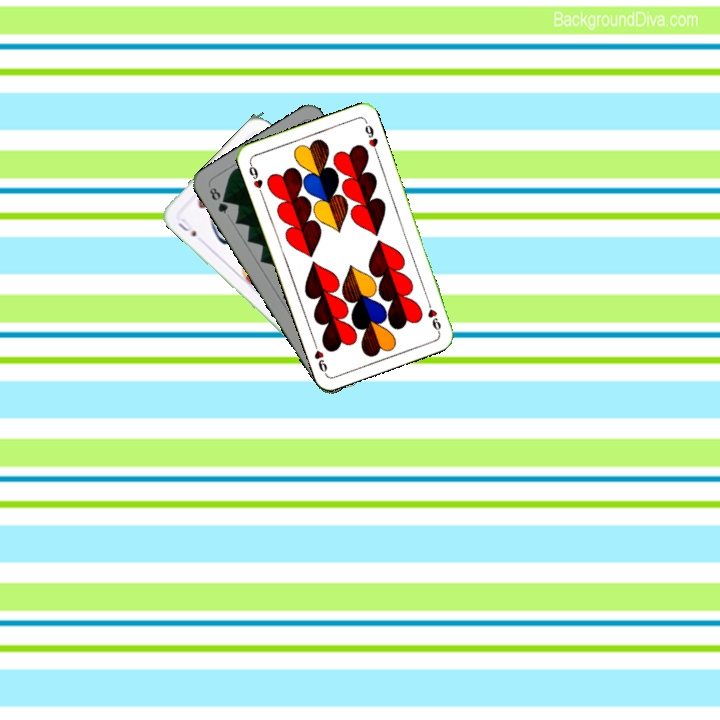G8: (205, 183, 231, 216)
H9: (423, 295, 444, 335), (245, 159, 265, 198)
SU: (174, 214, 199, 239)
